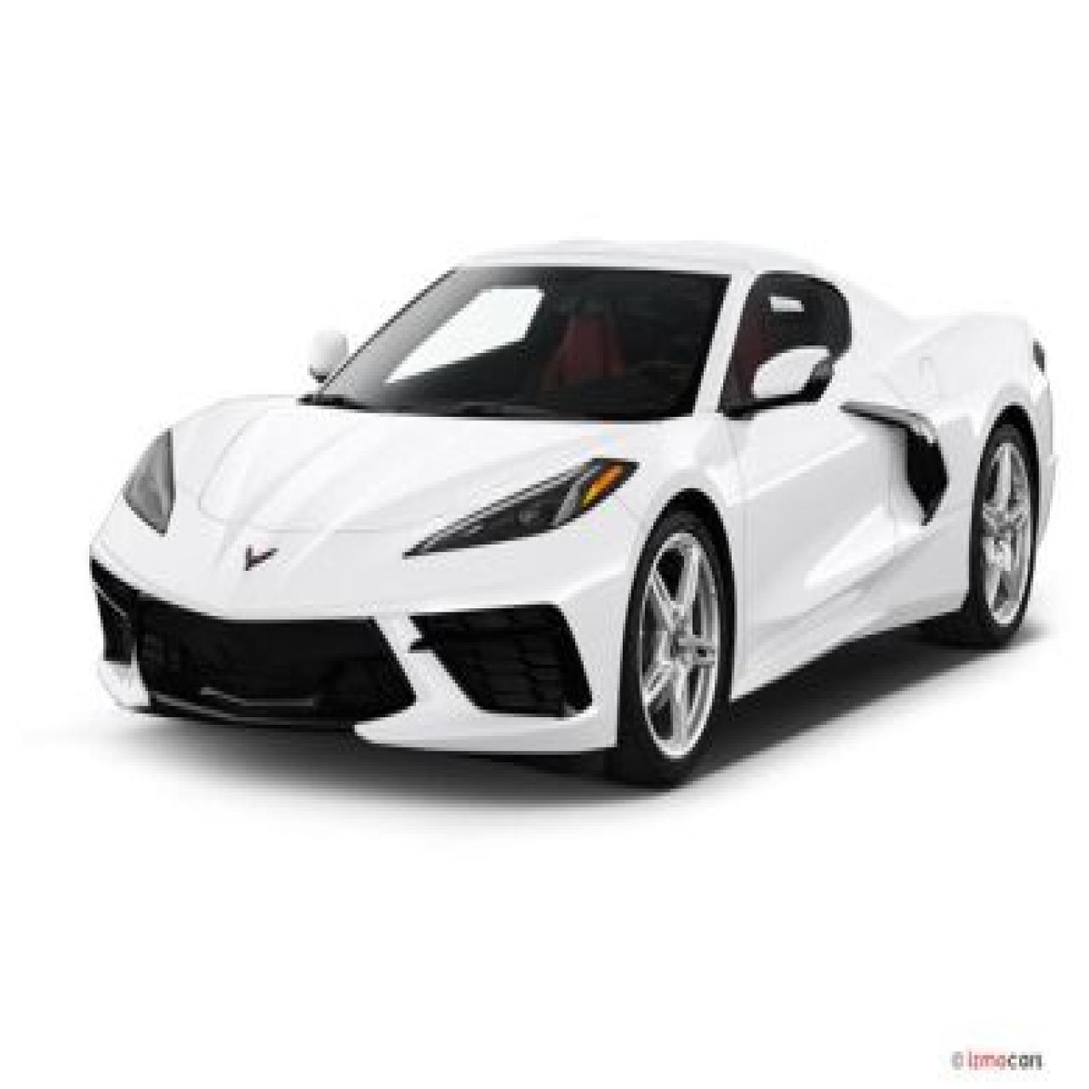vehicle: (90, 242, 1056, 785)
